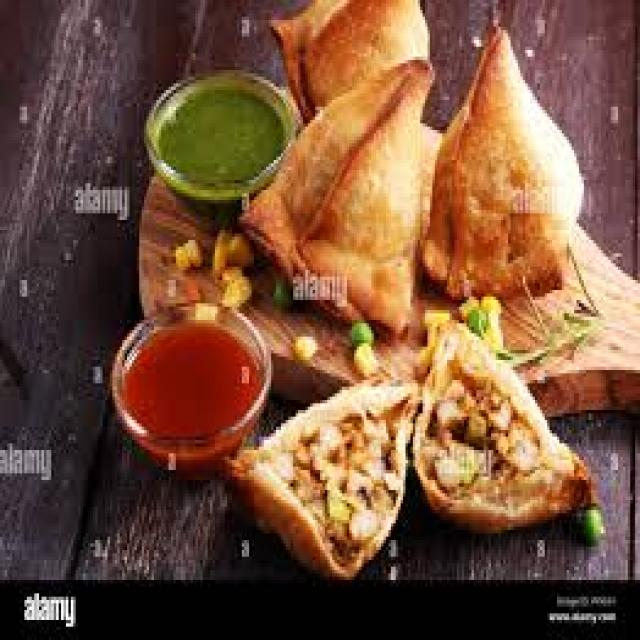SAMOSA: (246, 0, 438, 323), (425, 30, 581, 295), (407, 321, 590, 518), (249, 386, 414, 569)
